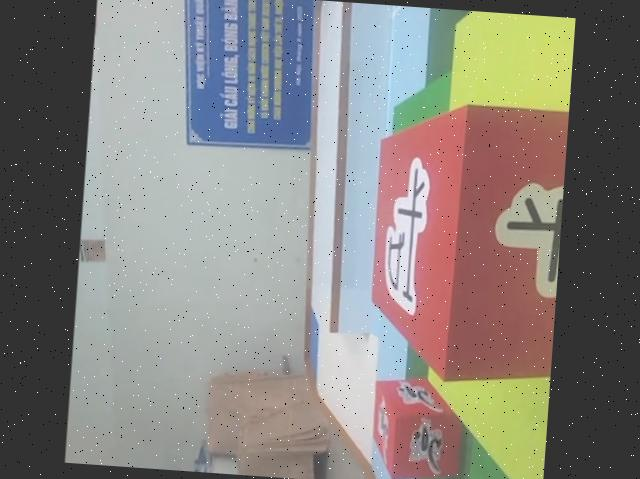R1: (364, 372, 470, 479)
R2 Real: (359, 92, 570, 388)
